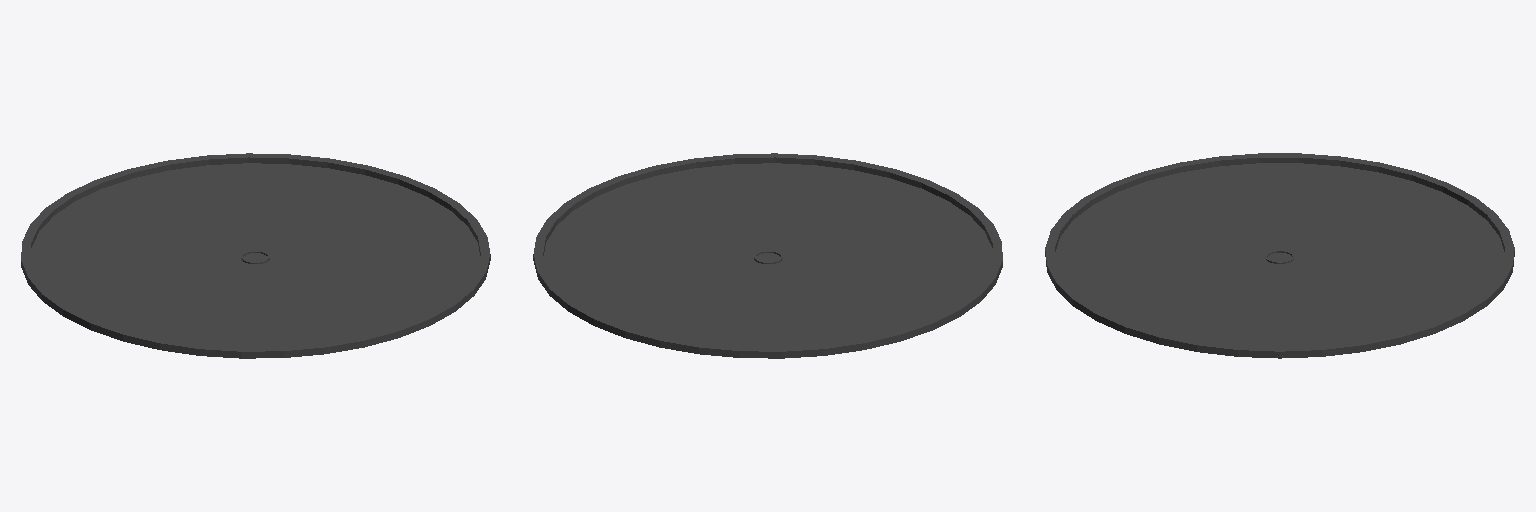
File: bowl.obj
The picture shows the model from 3 angles: view 1: azimuth 30°, elevation 25°; view 2: azimuth 150°, elevation 25°; view 3: azimuth 270°, elevation 25°; orthographic projection.
Visible parts, largest first — view 1: Cylinder001; view 2: Cylinder001; view 3: Cylinder001.
Boxes of the visible parts, x1,y1,x2,y2 form: Cylinder001: [21, 153, 490, 358]; Cylinder001: [533, 153, 1002, 358]; Cylinder001: [1045, 153, 1514, 358].
Bounding box in the file's own units: 359 × 5.82 × 360.